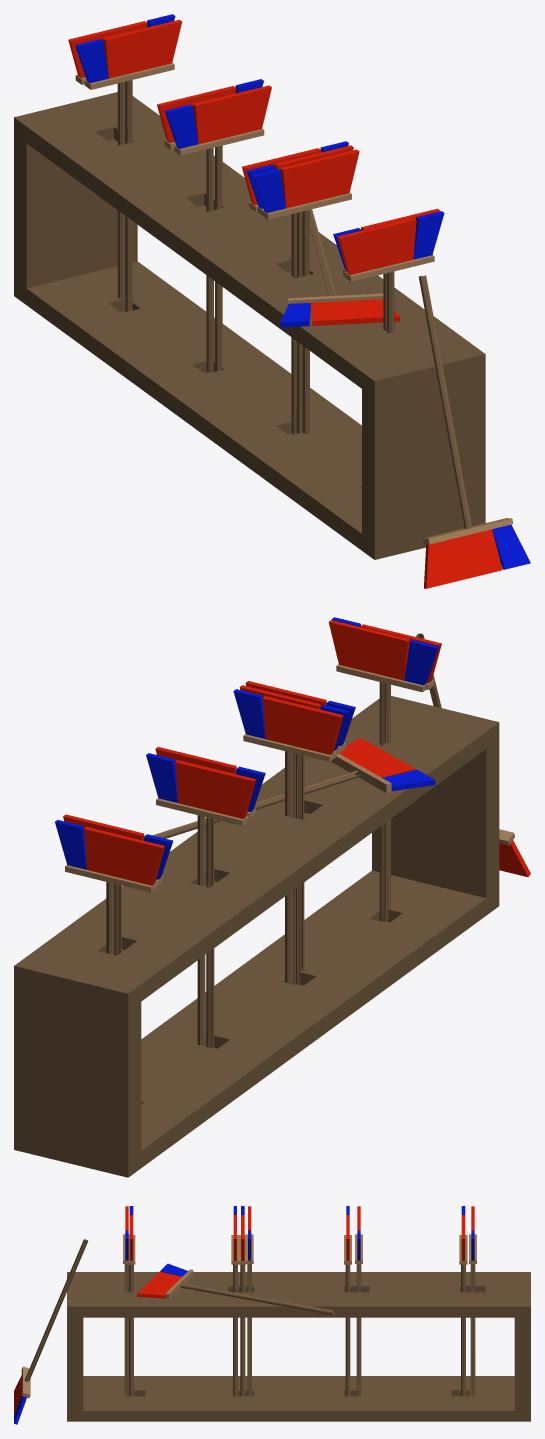
The model's file is Estantes_escoba_con_escobas.fbx.
The picture shows the model from 3 angles, top to bottom: view 1: azimuth 30°, elevation 25°; view 2: azimuth 150°, elevation 25°; view 3: azimuth 270°, elevation 25°; orthographic projection. The views are drawn at different scales.
Visible parts, largest first — view 1: Cubo, Cilindro.010, Cilindro.003, Cilindro.008, Cilindro.002, Cilindro.007, Cilindro.009, Cilindro.005, Cilindro.004, Cilindro.001, Cilindro.006, Cilindro; view 2: Cubo, Cilindro.005, Cilindro, Cilindro.006, Cilindro.004, Cilindro.009, Cilindro.002, Cilindro.008, Cilindro.001, Cilindro.003, Cilindro.007, Cilindro.010; view 3: Cubo, Cilindro.009, Cilindro.010, Cilindro.001, Cilindro.005, Cilindro.002, Cilindro.004, Cilindro.003, Cilindro, Cilindro.006, Cilindro.008, Cilindro.007.
Boxes of the visible parts, <box> form: Cubo: <box>14,92,485,559</box>; Cilindro.010: <box>418,275,530,588</box>; Cilindro.003: <box>75,19,181,311</box>; Cilindro.008: <box>252,149,359,433</box>; Cilindro.002: <box>165,85,271,371</box>; Cilindro.007: <box>337,211,444,333</box>; Cilindro.009: <box>280,209,399,327</box>; Cilindro.005: <box>157,79,263,372</box>; Cilindro.004: <box>68,14,175,298</box>; Cilindro.001: <box>246,145,353,433</box>; Cilindro.006: <box>242,141,348,434</box>; Cilindro: <box>333,208,440,330</box>; Cubo: <box>14,696,499,1177</box>; Cilindro.005: <box>146,753,256,1046</box>; Cilindro: <box>328,620,438,921</box>; Cilindro.006: <box>233,689,343,984</box>; Cilindro.004: <box>55,820,164,954</box>; Cilindro.009: <box>152,738,435,838</box>; Cilindro.002: <box>155,747,265,1047</box>; Cilindro.008: <box>245,681,355,982</box>; Cilindro.001: <box>239,685,349,985</box>; Cilindro.003: <box>63,814,173,955</box>; Cilindro.007: <box>331,617,441,919</box>; Cilindro.010: <box>416,633,530,877</box>; Cubo: <box>67,1272,530,1421</box>; Cilindro.009: <box>137,1263,334,1315</box>; Cilindro.010: <box>14,1239,87,1424</box>; Cilindro.001: <box>238,1206,246,1396</box>; Cilindro.005: <box>355,1206,362,1396</box>; Cilindro.002: <box>344,1206,351,1396</box>; Cilindro.004: <box>469,1206,476,1396</box>; Cilindro.003: <box>459,1206,467,1396</box>; Cilindro: <box>127,1206,135,1396</box>; Cilindro.006: <box>245,1206,253,1396</box>; Cilindro.008: <box>231,1206,239,1396</box>; Cilindro.007: <box>123,1206,129,1396</box>.
Bounding box in the file's own units: 590 × 1043 × 2632.
